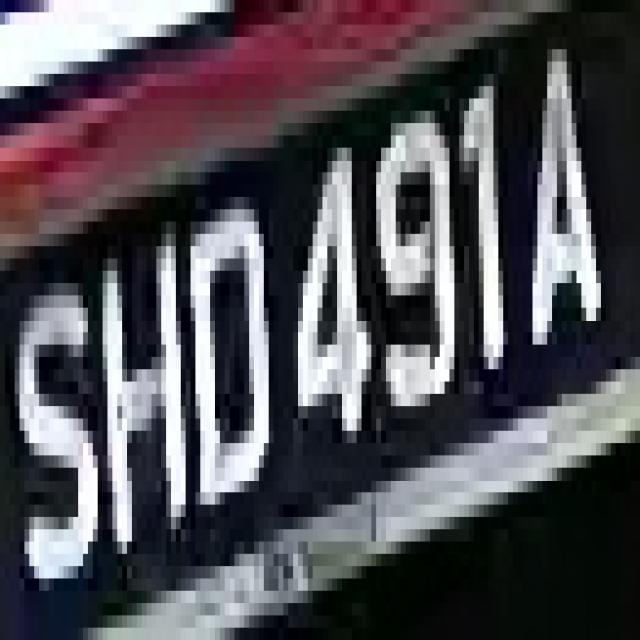1: (464, 0, 523, 406)
4: (269, 111, 376, 455)
9: (357, 49, 469, 456)
A: (508, 25, 606, 406)
D: (176, 185, 278, 517)
H: (88, 221, 200, 554)
S: (5, 246, 102, 628)
